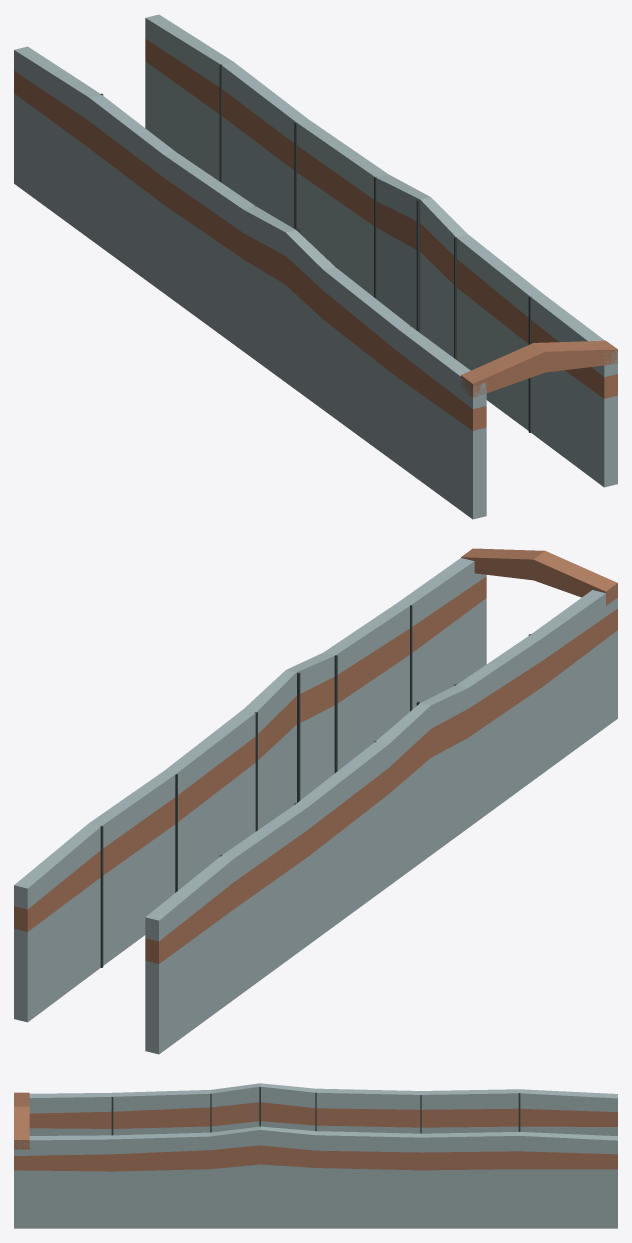
Rendered from xinhua-pocket-park-identity.glb.
3 views of the same model, one above another, from view 1: azimuth 30°, elevation 25°; view 2: azimuth 150°, elevation 25°; view 3: azimuth 270°, elevation 25° (orthographic). The views are drawn at different scales.
Parts seen in each view (by area): view 1: xinhua-pocket-park-identity-left-wall, xinhua-pocket-park-identity-right-wall, xinhua-pocket-park-identity-entrance-header; view 2: xinhua-pocket-park-identity-left-wall, xinhua-pocket-park-identity-right-wall, xinhua-pocket-park-identity-entrance-header; view 3: xinhua-pocket-park-identity-right-wall, xinhua-pocket-park-identity-left-wall, xinhua-pocket-park-identity-entrance-header.
Boxes of the visible parts, box(x1,y1,x2,y2) form: xinhua-pocket-park-identity-left-wall: box(14, 46, 486, 519); xinhua-pocket-park-identity-right-wall: box(145, 14, 617, 487); xinhua-pocket-park-identity-entrance-header: box(461, 340, 617, 397); xinhua-pocket-park-identity-left-wall: box(145, 586, 617, 1054); xinhua-pocket-park-identity-right-wall: box(14, 558, 486, 1022); xinhua-pocket-park-identity-entrance-header: box(461, 548, 617, 605); xinhua-pocket-park-identity-right-wall: box(14, 1125, 617, 1228); xinhua-pocket-park-identity-left-wall: box(29, 1083, 617, 1136); xinhua-pocket-park-identity-entrance-header: box(14, 1092, 29, 1149).
Size of the model in its own units: 1.68 by 1.66 by 9.2.
